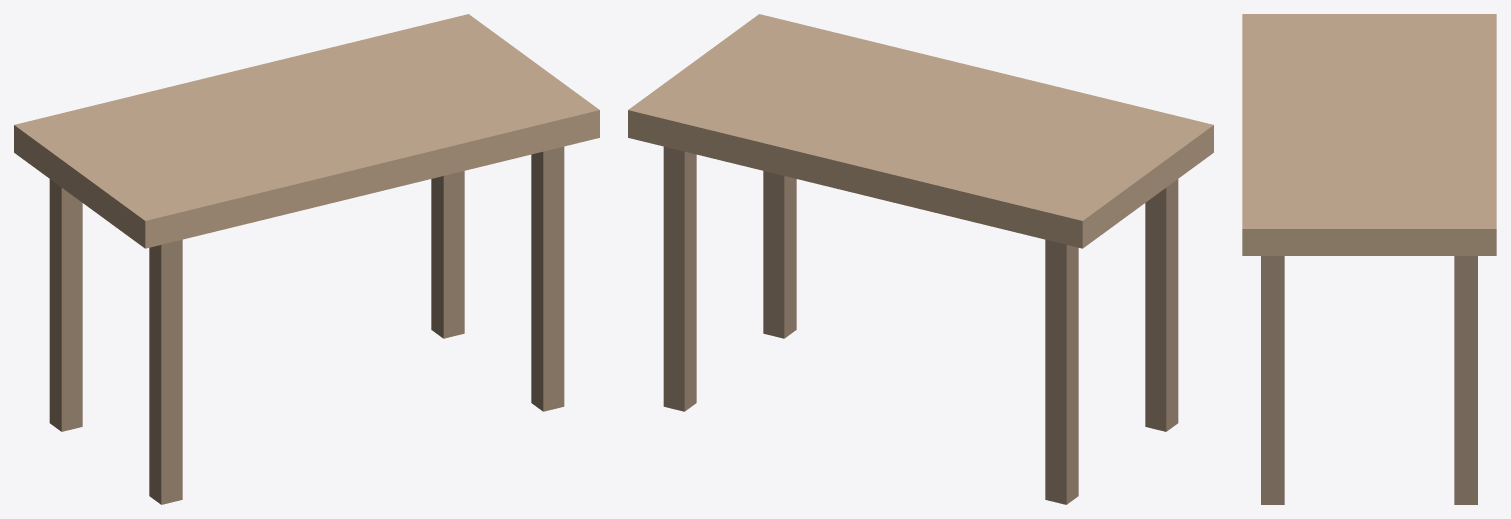
Rendered from desk.glb.
3 views of the same model, side by side, from view 1: azimuth 30°, elevation 25°; view 2: azimuth 150°, elevation 25°; view 3: azimuth 270°, elevation 25° (orthographic). The views are drawn at different scales.
Parts seen in each view (by area): view 1: top_0, leg_2, leg_4, leg_1, leg_3; view 2: top_0, leg_1, leg_3, leg_2, leg_4; view 3: top_0, leg_4, leg_3.
Part boxes in pixels (<box>): top_0: <box>14,14,599,248</box>; leg_2: <box>149,239,182,504</box>; leg_4: <box>531,146,564,411</box>; leg_1: <box>49,179,82,431</box>; leg_3: <box>431,171,464,338</box>; top_0: <box>628,14,1213,248</box>; leg_1: <box>1045,239,1078,504</box>; leg_3: <box>663,146,696,411</box>; leg_2: <box>1145,179,1178,431</box>; leg_4: <box>763,171,796,338</box>; top_0: <box>1242,14,1496,255</box>; leg_4: <box>1261,256,1284,504</box>; leg_3: <box>1454,256,1477,504</box>.
Size of the model in its own units: 1.2 by 0.75 by 0.6.
